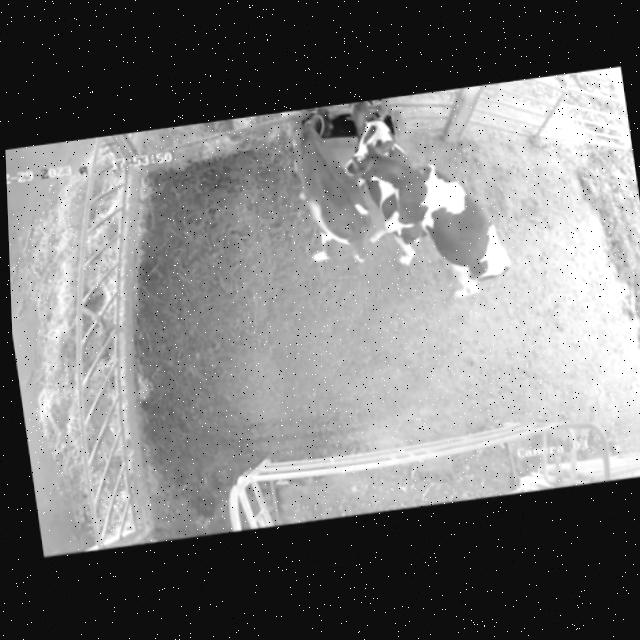drink: (282, 103, 347, 161), (349, 94, 404, 145)
ride: (345, 123, 527, 326)
